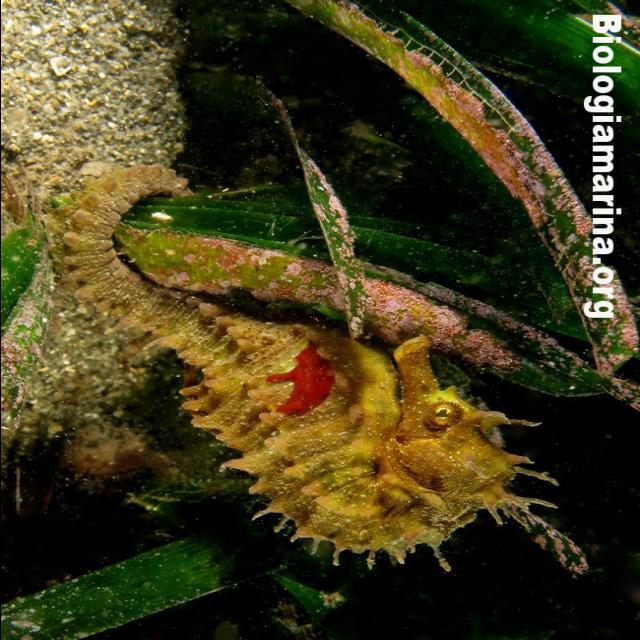Guttu: (367, 328, 528, 520)
